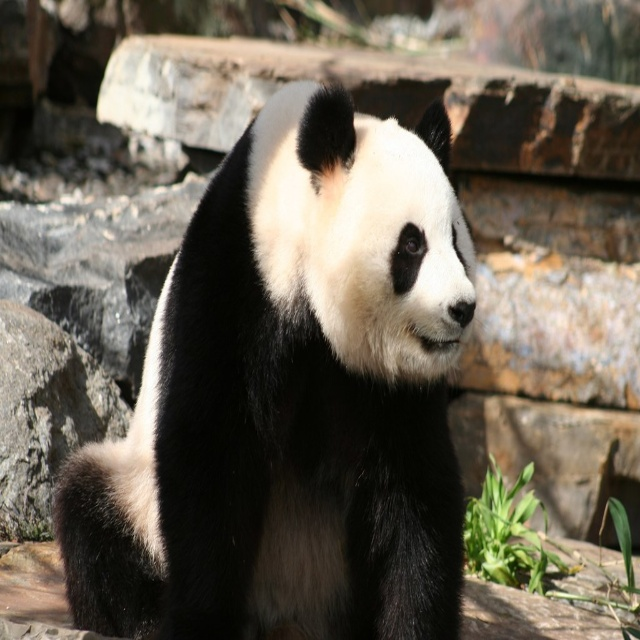Panda: (53, 76, 478, 639)
